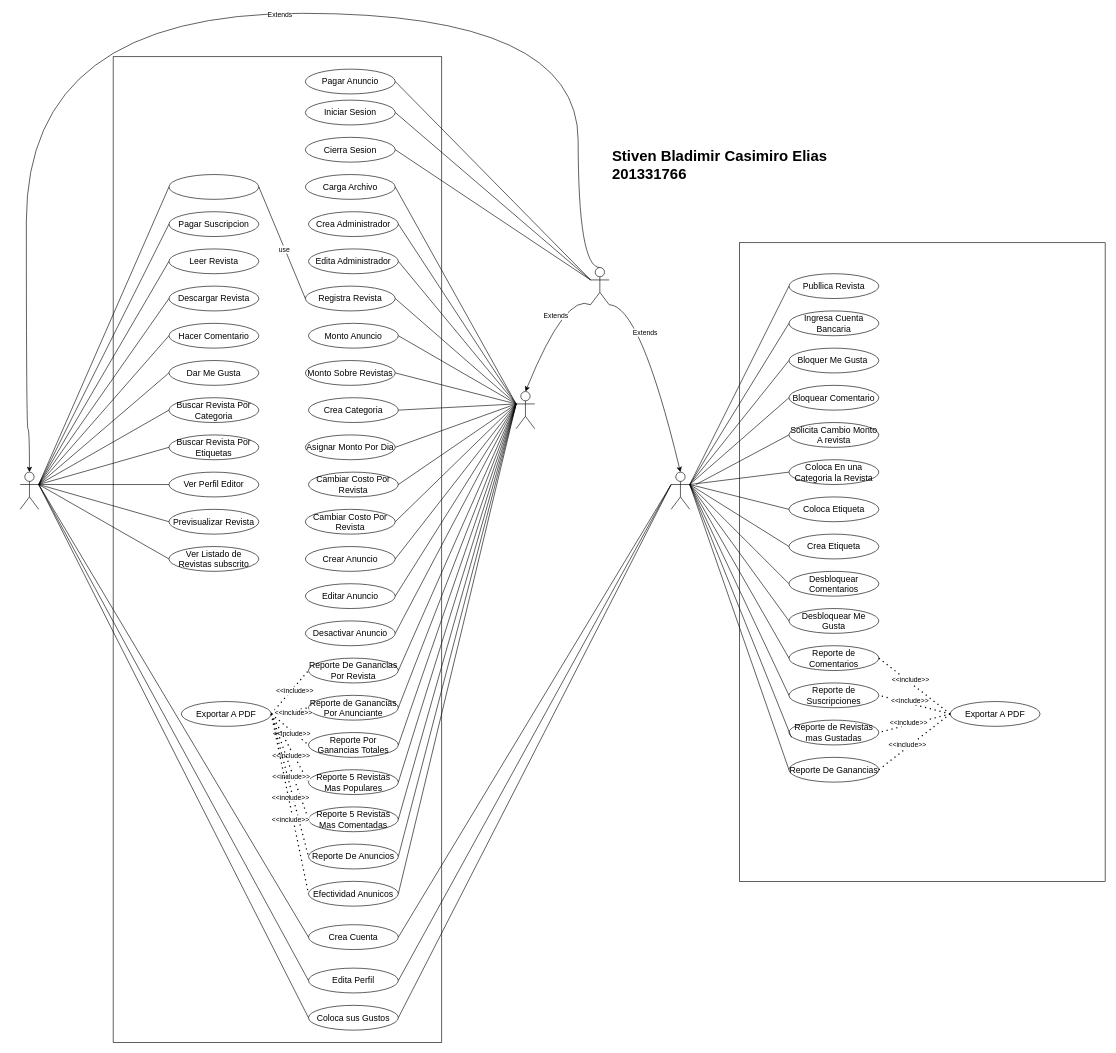
This 1116x1053 diagram has some shape labels left out. Each missing label, with the centre of its shape:
Administrador: the point at 525,410
Editor: the point at 680,490
Persona: the point at 599,286
Subscriptor: the point at 29,490
Suscribirse: the point at 213,186
